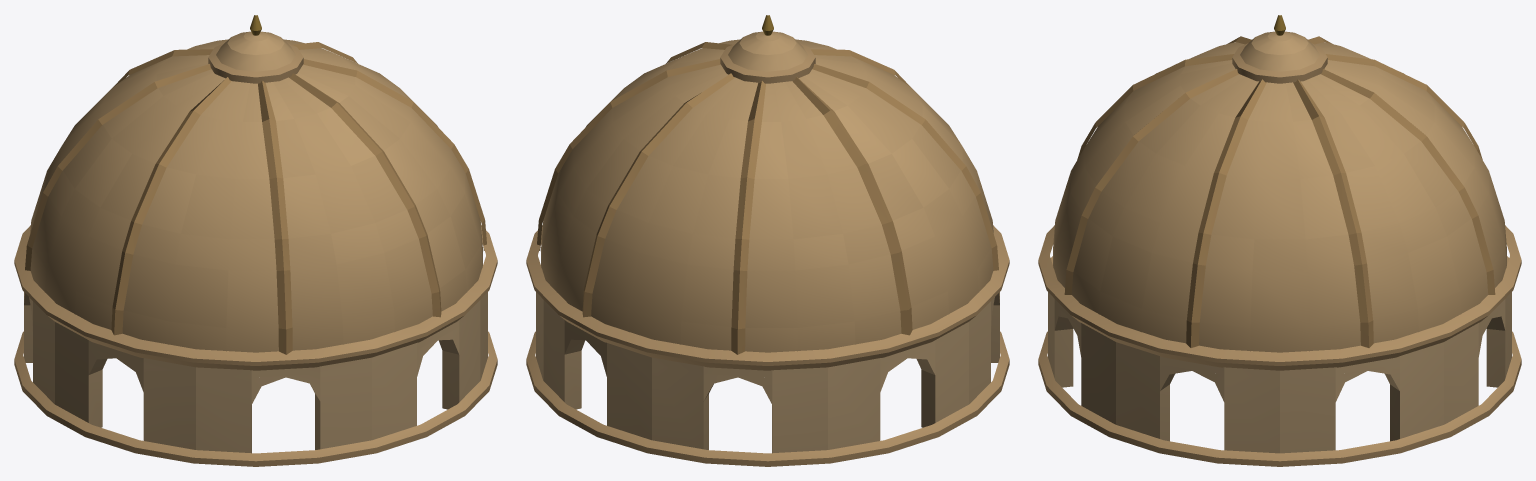
File: dome.hall_8.sandstone.glb
3 renders of one model, left to right at view 1: azimuth 30°, elevation 25°; view 2: azimuth 150°, elevation 25°; view 3: azimuth 270°, elevation 25°, orthographic.
Visible parts, largest first — view 1: dome_hall_8_sandstone; view 2: dome_hall_8_sandstone; view 3: dome_hall_8_sandstone.
Part boxes in pixels (x1,y1,x2,y2): dome_hall_8_sandstone: (14,15,497,466); dome_hall_8_sandstone: (526,15,1009,466); dome_hall_8_sandstone: (1038,15,1521,466).
Size of what is drawn, in the model's own units: 15.2 by 12.15 by 15.2.
